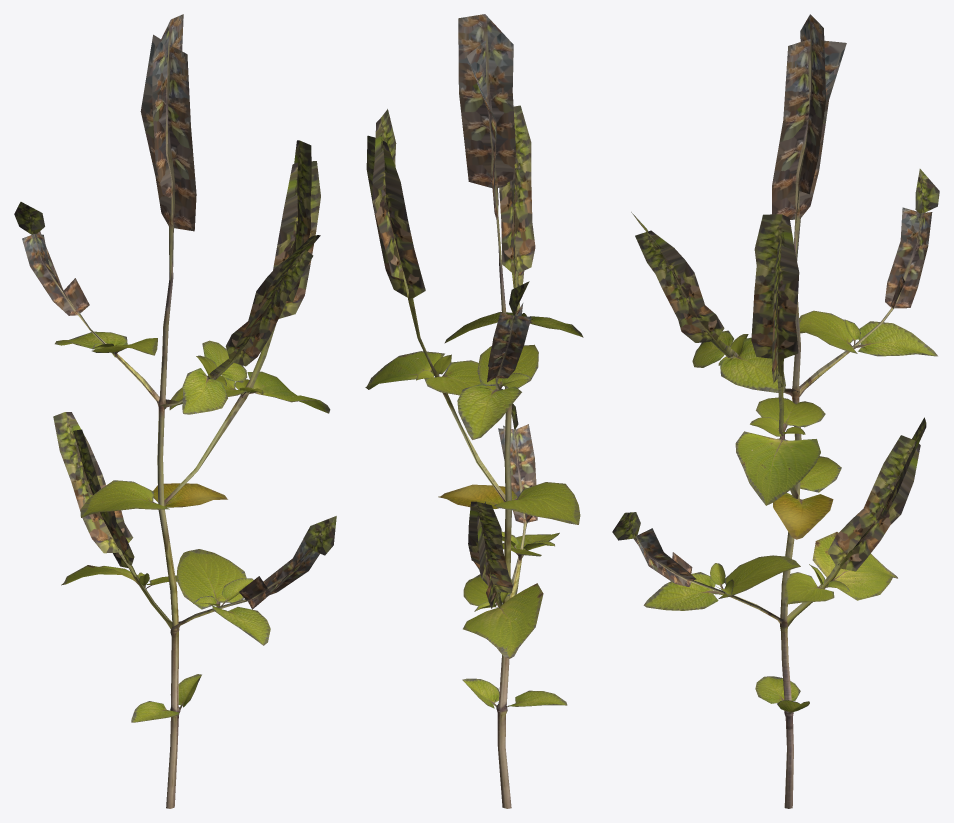
Rendered from shrub_03_v3.glb.
The picture shows the model from 3 angles, left to right: view 1: azimuth 30°, elevation 25°; view 2: azimuth 150°, elevation 25°; view 3: azimuth 270°, elevation 25°; orthographic projection. The views are drawn at different scales.
Visible parts, largest first — view 1: lod0; view 2: lod0; view 3: lod0.
Part boxes in pixels (<box>): lod0: <box>14,14,336,808</box>; lod0: <box>365,14,583,808</box>; lod0: <box>612,14,939,808</box>.
Size of what is drawn, in the model's own units: 0.0958 by 0.3044 by 0.1132.
Materials: 1 (1 with a texture image).
